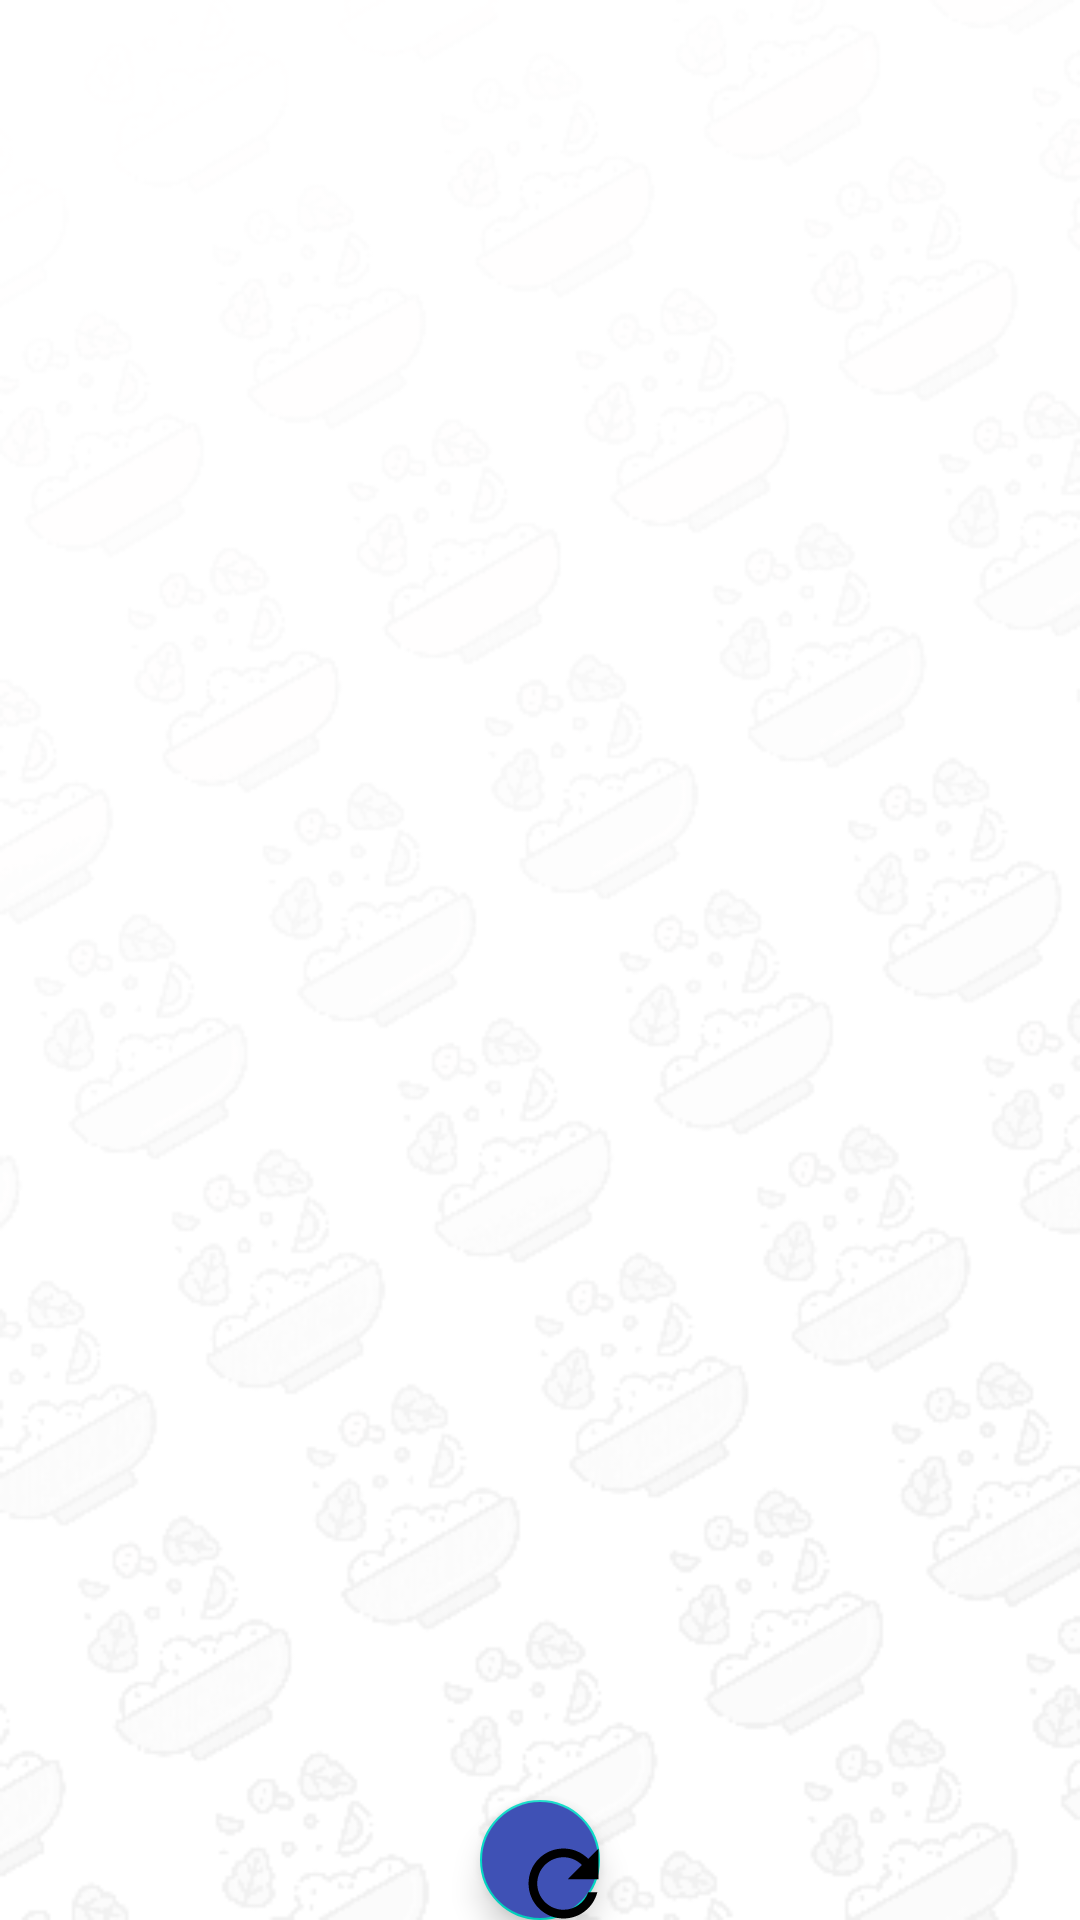

Point at icon controls on the screen. Image size 1080w x 1920h, points as (x,y).
refresh: (540,1860)
